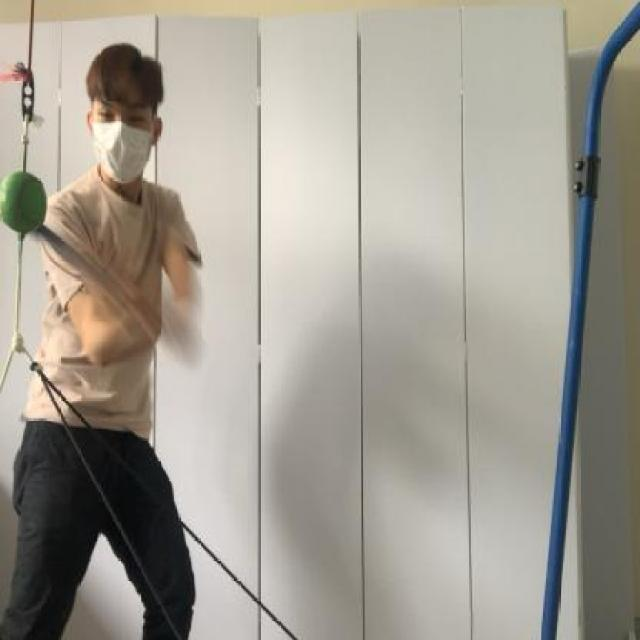baseball: (2, 172, 46, 233)
